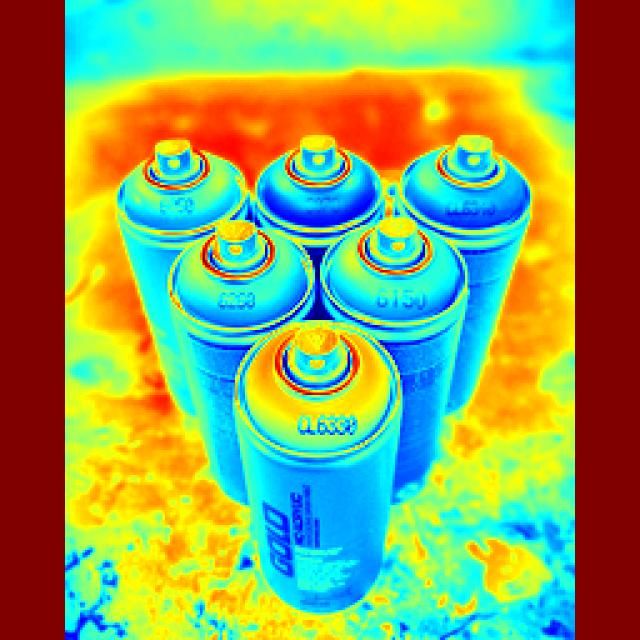Aerosol Cans: (234, 314, 400, 624), (404, 150, 514, 440)
